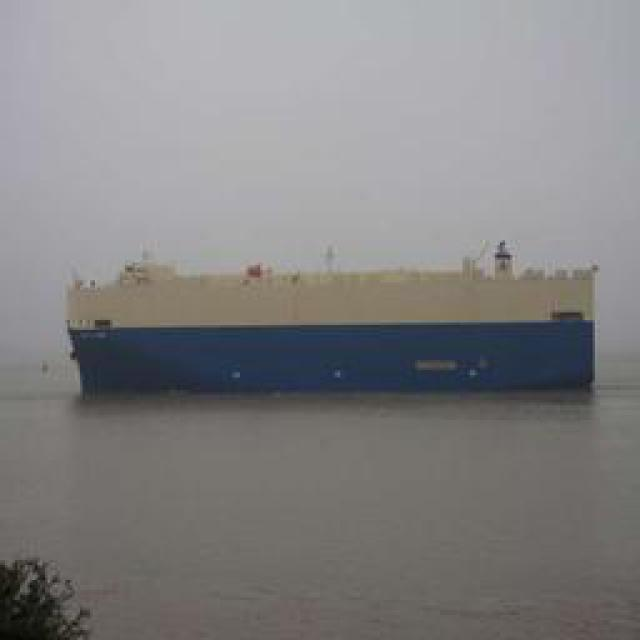Ship: (62, 250, 615, 405)
